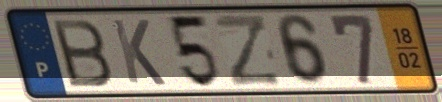5: (161, 13, 221, 90)
6: (275, 12, 331, 89)
7: (325, 12, 377, 87)
B: (48, 17, 116, 90)
K: (108, 17, 169, 88)
Z: (211, 13, 285, 89)
